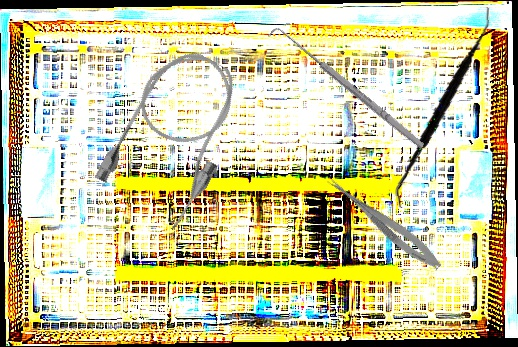Cannula: (89, 37, 261, 235)
Hook Surgical: (267, 22, 427, 156)
Micro Scissor: (321, 173, 446, 275)
Spatula Surgical: (379, 6, 510, 209)
